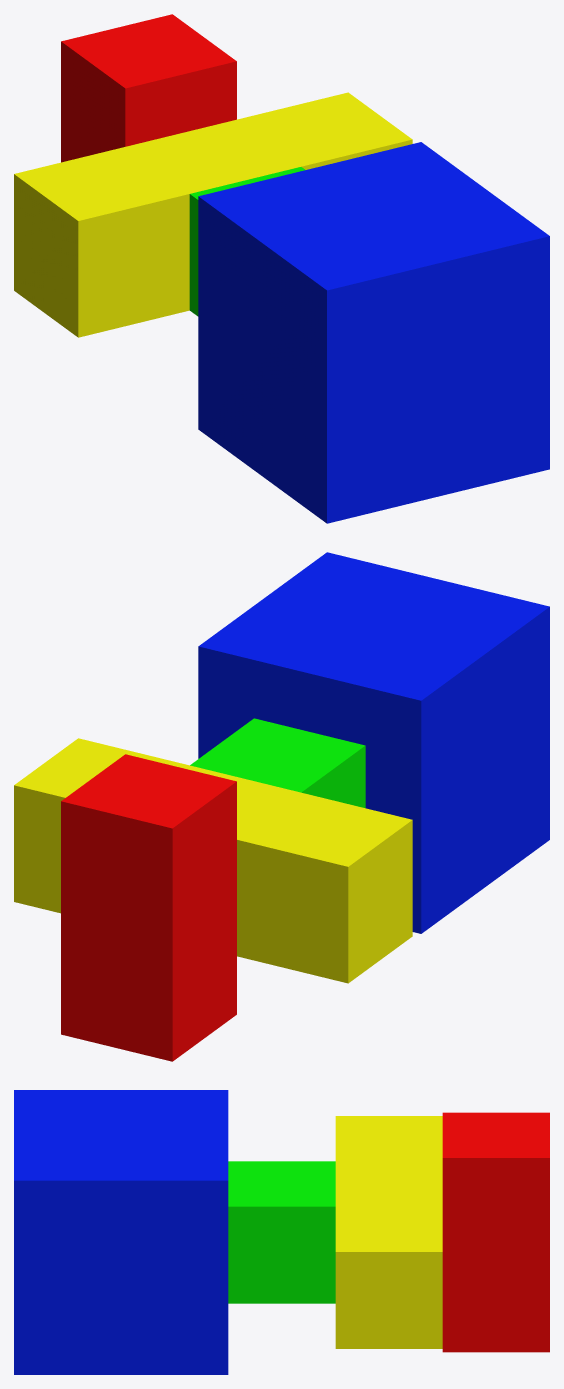
File: architect.gltf
3 renders of one model, top to bottom at view 1: azimuth 30°, elevation 25°; view 2: azimuth 150°, elevation 25°; view 3: azimuth 270°, elevation 25°, orthographic. The views are drawn at different scales.
Visible parts, largest first — view 1: Cube; view 2: Cube; view 3: Cube.
Boxes of the visible parts, x1=… form: Cube: x1=14, y1=14, x2=549, y2=523; Cube: x1=14, y1=552, x2=549, y2=1061; Cube: x1=14, y1=1090, x2=549, y2=1374.
Size of the model in its own units: 0.75 by 0.5 by 1.25.
